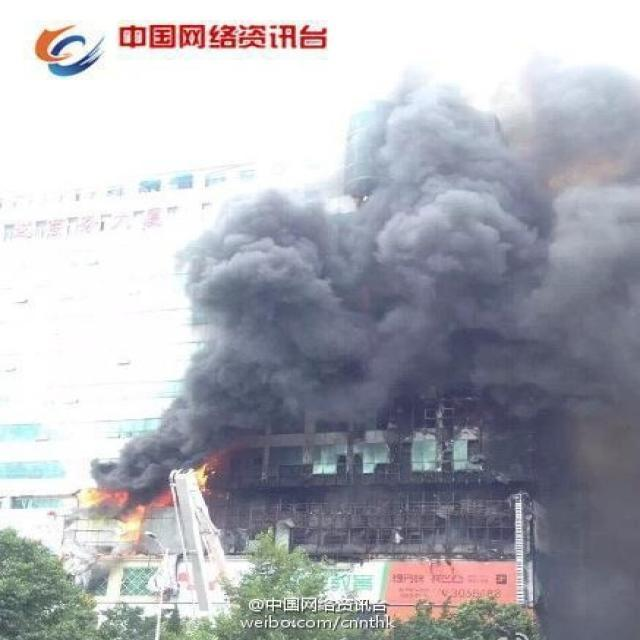Fire: (70, 464, 212, 542)
Smoke: (80, 67, 640, 639)
